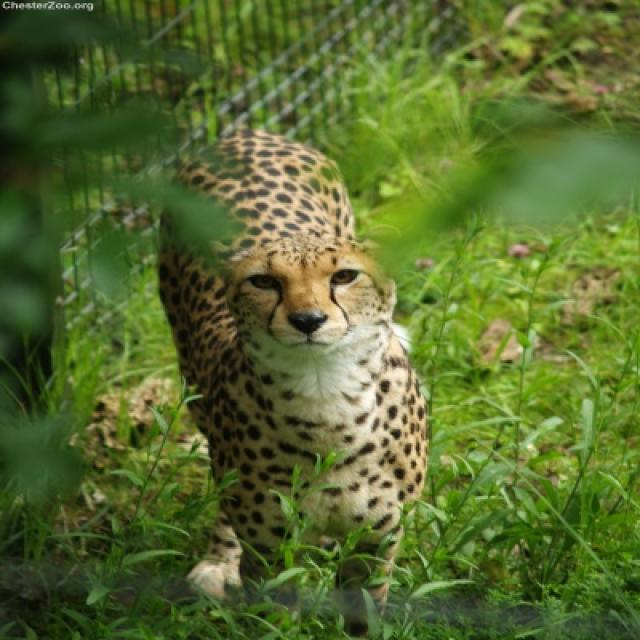Cheetah: (160, 133, 426, 597)
